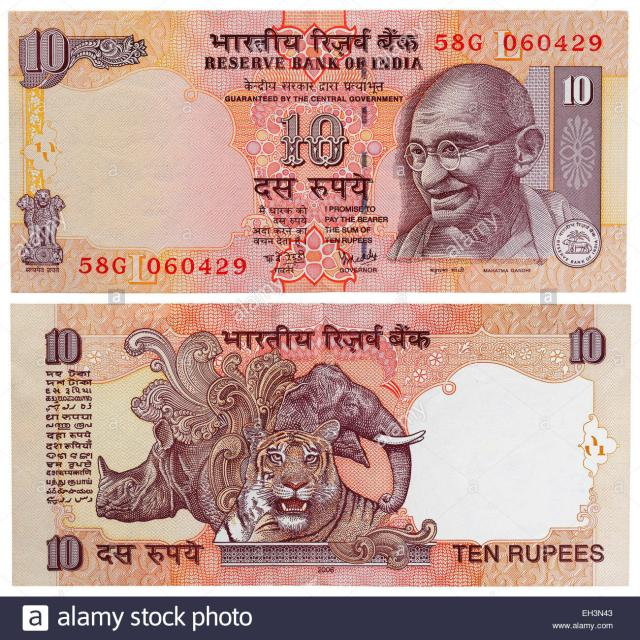10IndianRupees: (0, 1, 635, 298), (14, 306, 625, 579)
